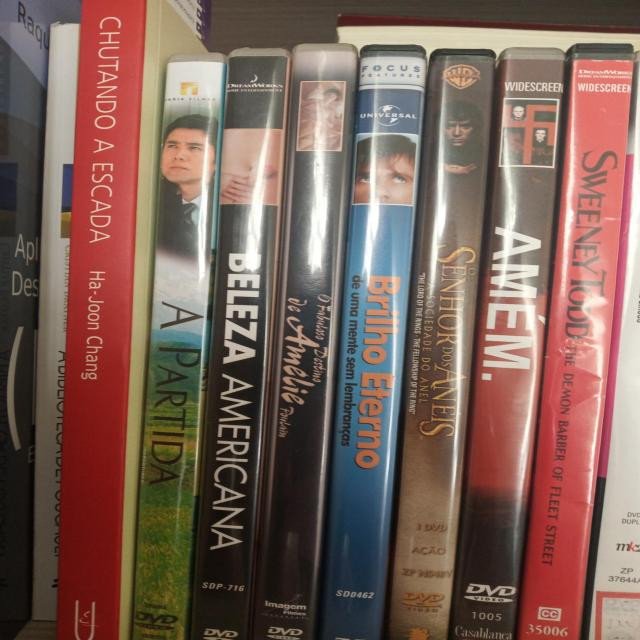book: (216, 49, 275, 640), (36, 42, 60, 620)
